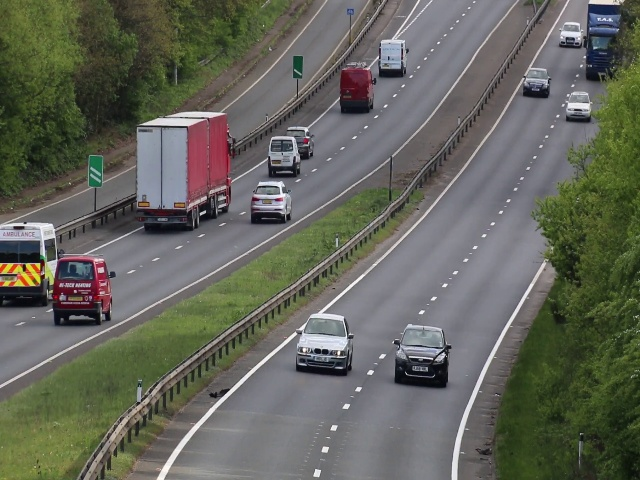car: (137, 110, 231, 232), (1, 217, 61, 310), (288, 311, 356, 374), (55, 253, 112, 326), (394, 321, 450, 391), (339, 63, 377, 115), (378, 36, 411, 82), (254, 181, 290, 222), (266, 140, 302, 176), (564, 88, 592, 127), (523, 66, 550, 100), (555, 17, 584, 48), (291, 122, 315, 157)
